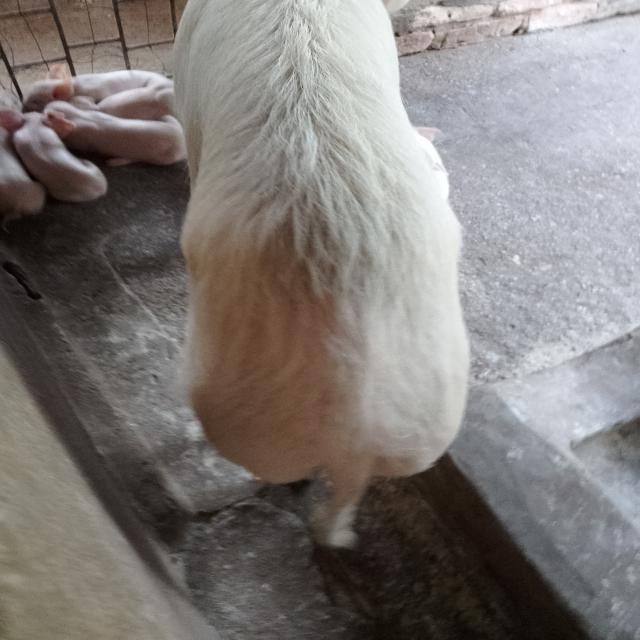pig: (113, 0, 518, 581)
